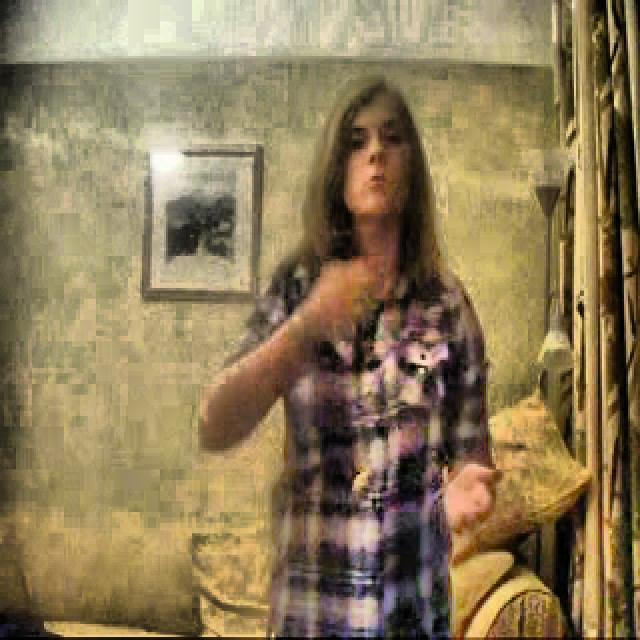F: (200, 78, 491, 636)
